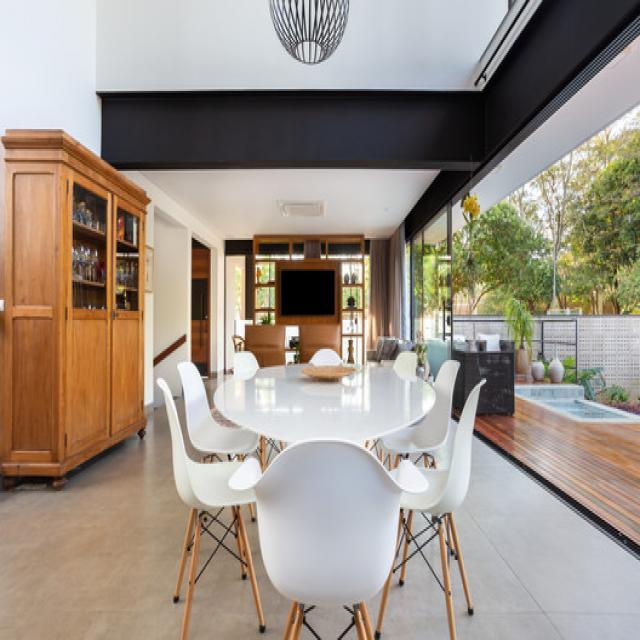couch: (451, 336, 515, 418), (367, 337, 413, 364), (476, 333, 515, 355)
